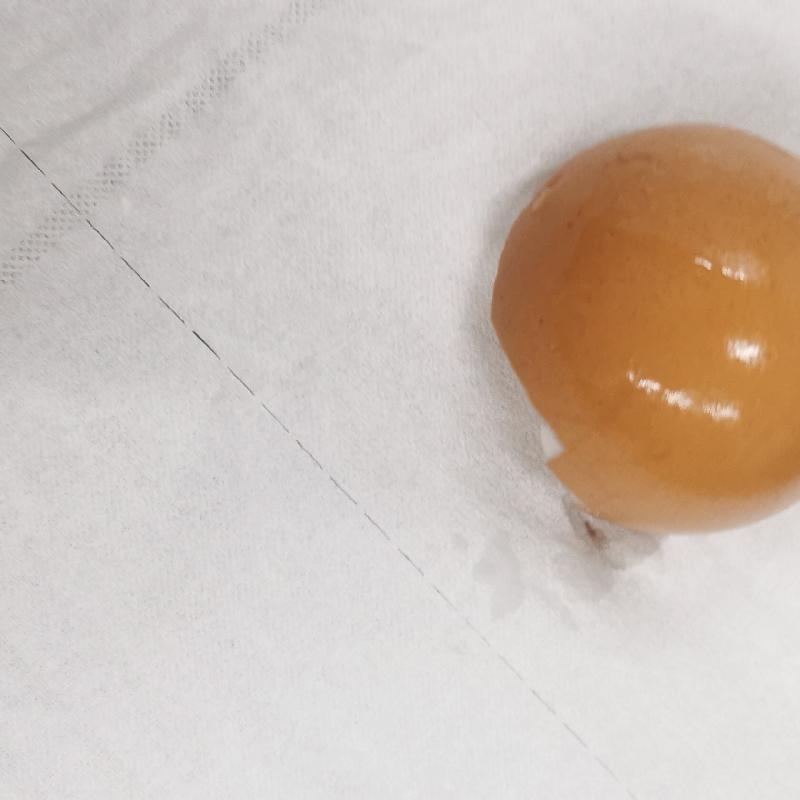eggshell: (490, 121, 800, 534)
